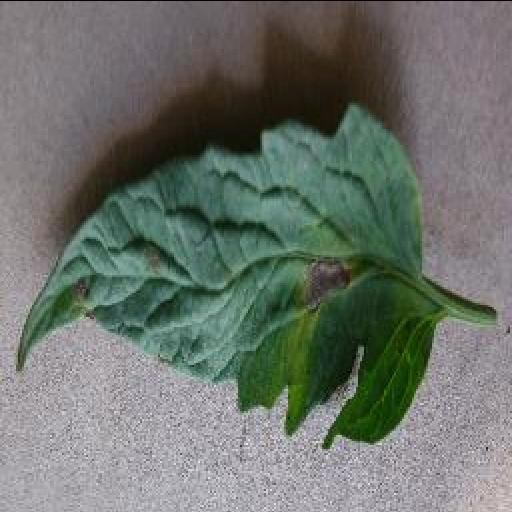disease_tomato: (12, 97, 432, 449)
